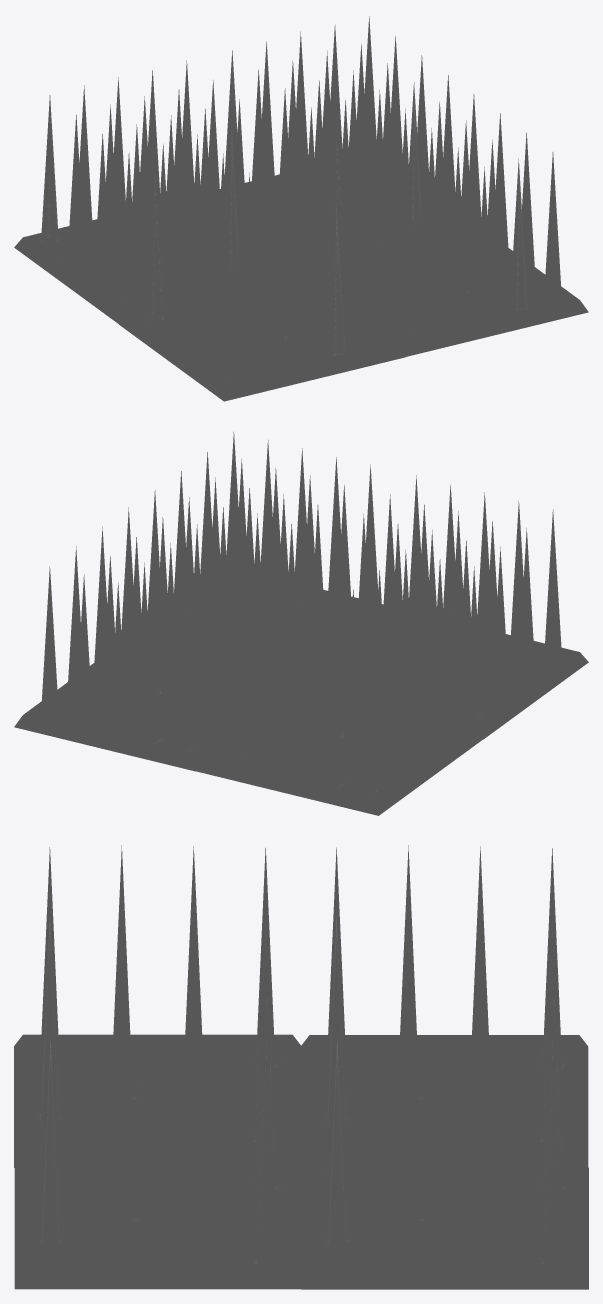
The model's file is spikes.fbx.
3 views of the same model, one above another, from view 1: azimuth 30°, elevation 25°; view 2: azimuth 150°, elevation 25°; view 3: azimuth 270°, elevation 25° (orthographic). The views are drawn at different scales.
Visible parts, largest first — view 1: node_id50, node_id68, node_id9, node_id62; view 2: node_id9, node_id62, node_id50, node_id68; view 3: node_id68, node_id62, node_id50, node_id9.
Part boxes in pixels (bbox=[...]): node_id50: bbox=[119, 138, 406, 401]; node_id68: bbox=[324, 94, 588, 356]; node_id9: bbox=[14, 60, 272, 323]; node_id62: bbox=[220, 16, 455, 265]; node_id9: bbox=[196, 553, 483, 815]; node_id62: bbox=[14, 507, 278, 771]; node_id50: bbox=[330, 475, 588, 738]; node_id68: bbox=[147, 432, 383, 680]; node_id68: bbox=[14, 966, 301, 1289]; node_id62: bbox=[301, 967, 588, 1289]; node_id50: bbox=[14, 845, 300, 1167]; node_id9: bbox=[301, 845, 588, 1166].
Size of the model in its own units: 1.03 by 0.4265 by 1.02.
1 material, 1 textured.
